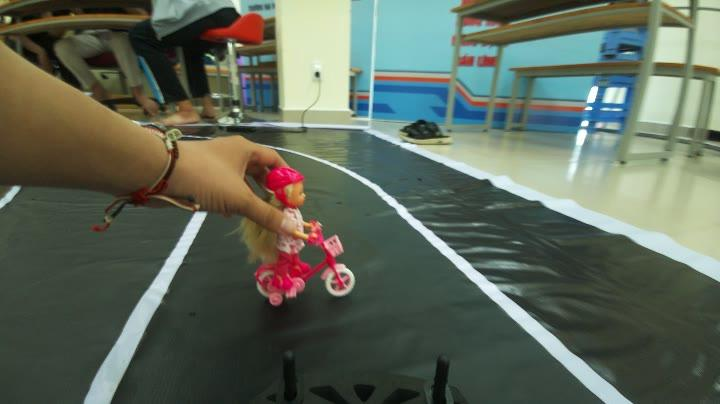pedestrian: (255, 170, 362, 306)
